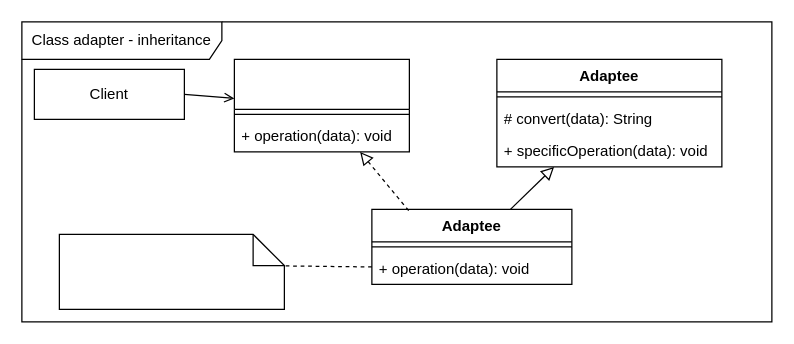
Image size: 794x344. Some labels were removed from this diagram. The shapes that lost their labels are listed below. From the top down, each one's box as (x1, y1, x2, y2) in pixels, then its label:
(233, 58, 409, 152): <<interface>> Target
(58, 233, 284, 309): data = convert("xml"); adaptee.specificOperation(data);
